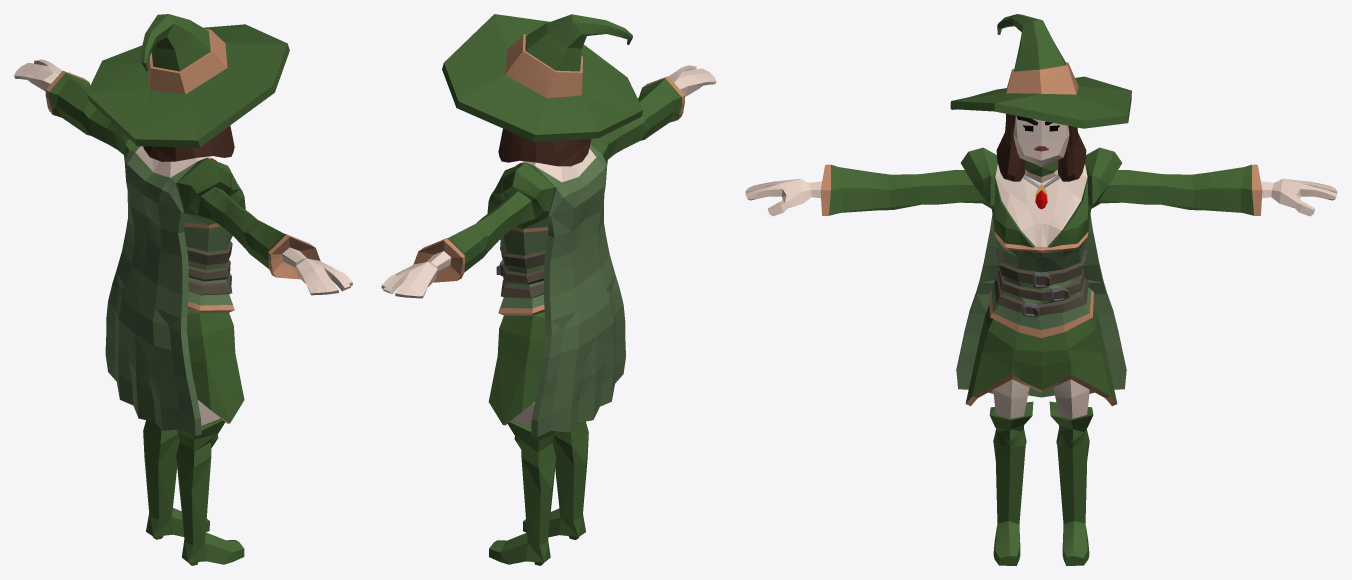
The model's file is bruja.glb.
3 views of the same model, side by side, from view 1: azimuth 30°, elevation 25°; view 2: azimuth 150°, elevation 25°; view 3: azimuth 270°, elevation 25° (orthographic). The views are drawn at different scales.
Visible parts, largest first — view 1: Character_Female_Witch; view 2: Character_Female_Witch; view 3: Character_Female_Witch.
Part boxes in pixels (x1=…): Character_Female_Witch: x1=14, y1=14, x2=352, y2=565; Character_Female_Witch: x1=381, y1=14, x2=716, y2=565; Character_Female_Witch: x1=745, y1=14, x2=1337, y2=565.
Size of the model in its own units: 1.22 by 3.94 by 4.08.
1 material, 1 textured.
